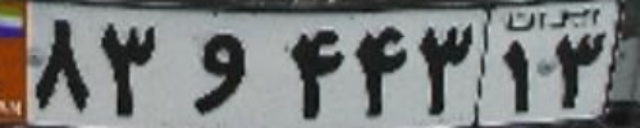1: (500, 37, 533, 111)
3: (98, 22, 155, 116), (418, 21, 475, 114), (554, 32, 607, 109)
4: (287, 28, 345, 119), (353, 25, 408, 118)
8: (34, 18, 91, 112)
vav: (191, 30, 249, 114)
